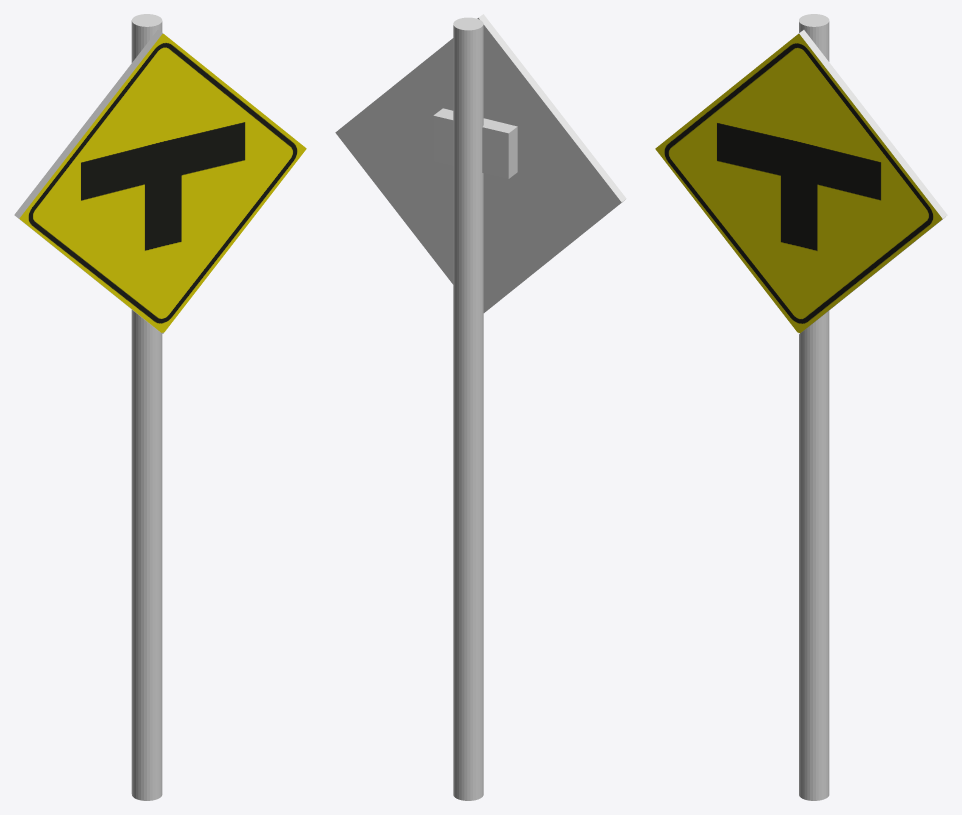
File: PeringPertig.fbx
The picture shows the model from 3 angles, left to right: view 1: azimuth 30°, elevation 25°; view 2: azimuth 150°, elevation 25°; view 3: azimuth 330°, elevation 25°; orthographic projection.
Parts seen in each view (by area): view 1: Cube.002, Cylinder.002; view 2: Cube.002, Cylinder.002, Cube.001; view 3: Cube.002, Cylinder.002.
Part boxes in pixels (box(x1,y1,x2,y2)): Cube.002: box(14, 30, 306, 333); Cylinder.002: box(131, 14, 162, 800); Cube.002: box(335, 14, 626, 312); Cylinder.002: box(453, 17, 483, 800); Cube.001: box(433, 108, 517, 178); Cube.002: box(655, 30, 947, 333); Cylinder.002: box(799, 14, 829, 800).
Bounding box in the file's own units: 283 × 727 × 39.46.
2 materials, 1 textured.
